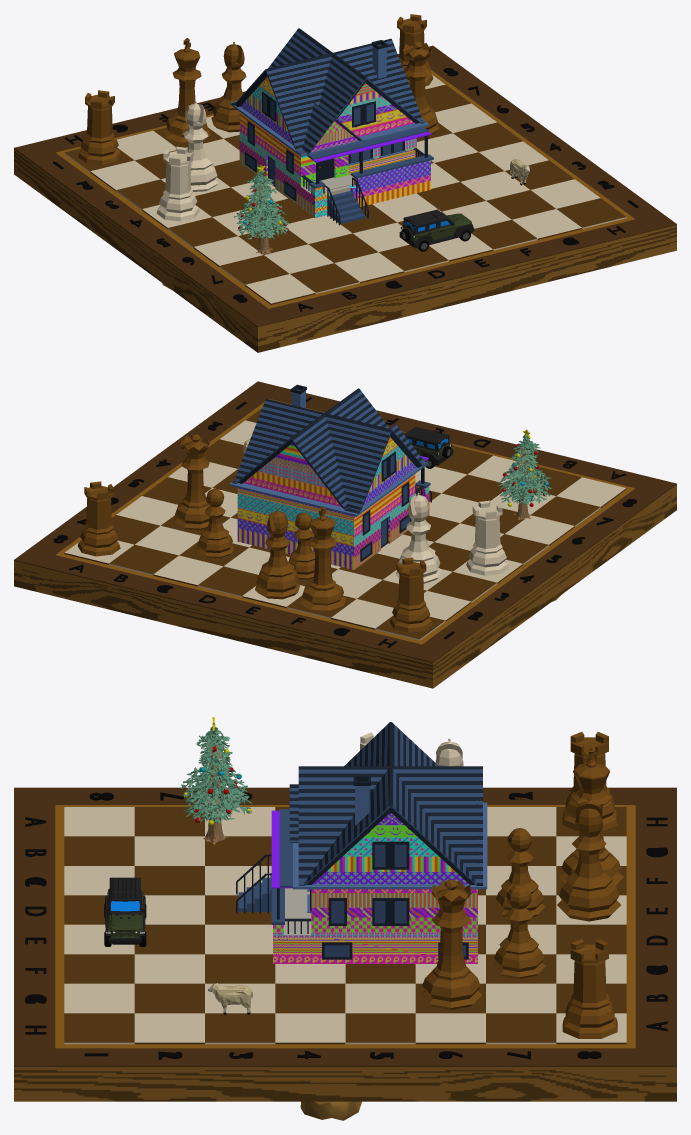
3 renders of one model, top to bottom at view 1: azimuth 30°, elevation 25°; view 2: azimuth 150°, elevation 25°; view 3: azimuth 270°, elevation 25°, orthographic. The views are drawn at different scales.
Visible parts, largest first — view 1: Cube.002, Cube.676, OBJRANDOM_CHRISTMAS_TREE, VEHICLES_JEEP; view 2: Cube.002, Cube.676, OBJRANDOM_CHRISTMAS_TREE, VEHICLES_JEEP; view 3: Cube.002, Cube.676, OBJRANDOM_CHRISTMAS_TREE, VEHICLES_JEEP, UNDERGROUND_T_REX_BONES, ANIMAL_OVEJA.
Boxes of the visible parts, x1=… form: Cube.002: x1=14, y1=14, x2=676, y2=352; Cube.676: x1=230, y1=28, x2=433, y2=225; OBJRANDOM_CHRISTMAS_TREE: x1=234, y1=164, x2=290, y2=254; VEHICLES_JEEP: x1=399, y1=209, x2=474, y2=251; Cube.002: x1=14, y1=381, x2=676, y2=688; Cube.676: x1=229, y1=384, x2=431, y2=569; OBJRANDOM_CHRISTMAS_TREE: x1=497, y1=429, x2=551, y2=520; VEHICLES_JEEP: x1=402, y1=426, x2=453, y2=468; Cube.002: x1=14, y1=731, x2=676, y2=1101; Cube.676: x1=236, y1=722, x2=487, y2=963; OBJRANDOM_CHRISTMAS_TREE: x1=180, y1=717, x2=252, y2=844; VEHICLES_JEEP: x1=104, y1=877, x2=146, y2=946; UNDERGROUND_T_REX_BONES: x1=300, y1=1101, x2=361, y2=1120; ANIMAL_OVEJA: x1=208, y1=983, x2=252, y2=1014.
Size of the model in its own units: 3981 by 1597 by 4012.
39 materials, 6 textured.
